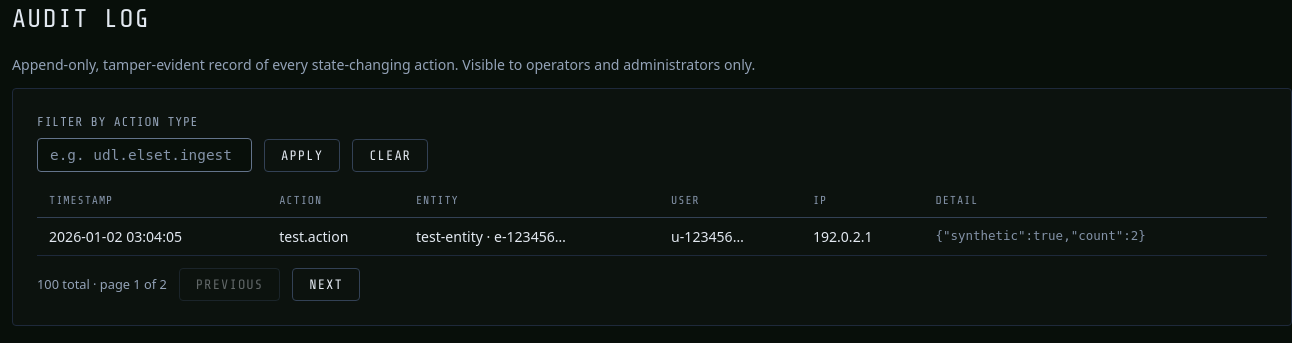
Scenario: the audit log page › pages through the entries 50 at a time
The image size is (1292, 343).
Expected: the text "100 total · page 1 of 2" is shown, x1=37 y1=275 x2=167 y2=294
Expected: the button "Previous" is disabled, x1=179 y1=268 x2=280 y2=301
Click the button "Next".
click(326, 285)  # box x1=292 y1=268 x2=360 y2=301
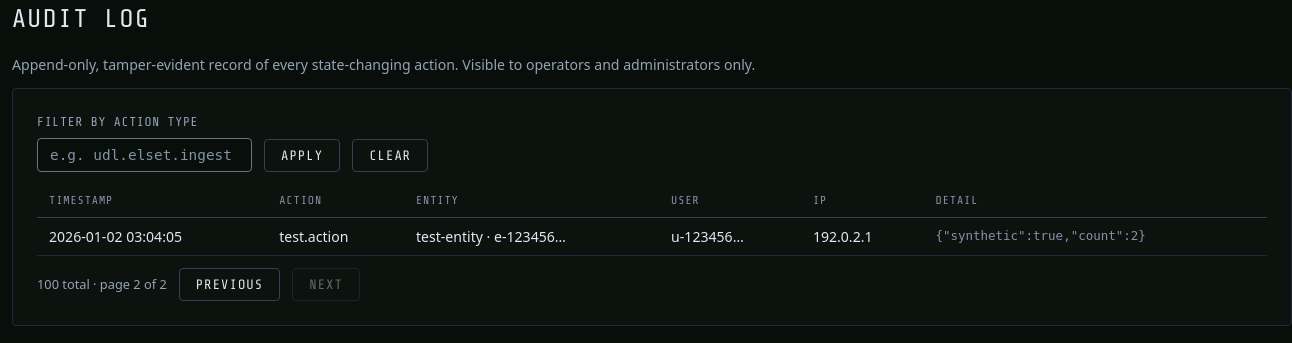
Expected: the text "100 total · page 2 of 2" is shown, x1=37 y1=275 x2=167 y2=294
Expected: the button "Next" is disabled, x1=292 y1=268 x2=360 y2=301
Click the button "Previous".
click(230, 285)  # box x1=179 y1=268 x2=280 y2=301
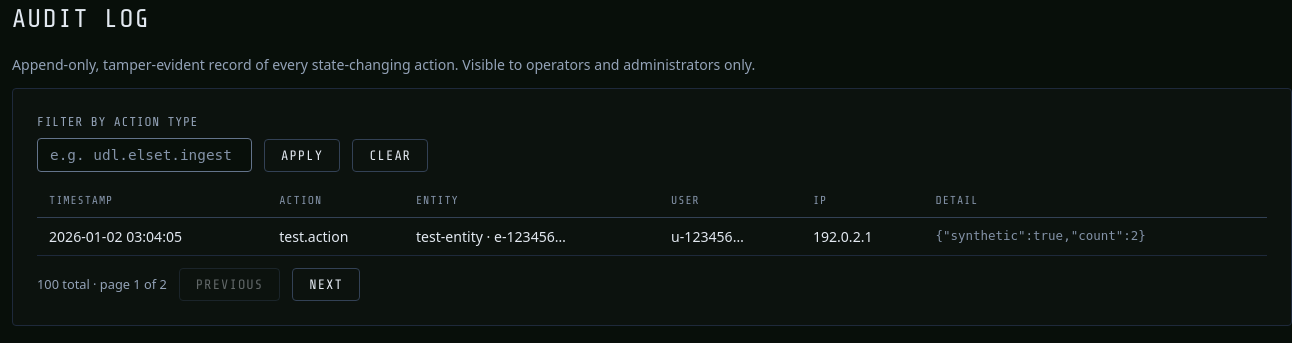
Expected: the text "100 total · page 1 of 2" is shown, x1=37 y1=275 x2=167 y2=294
Expected: the button "Previous" is disabled, x1=179 y1=268 x2=280 y2=301
